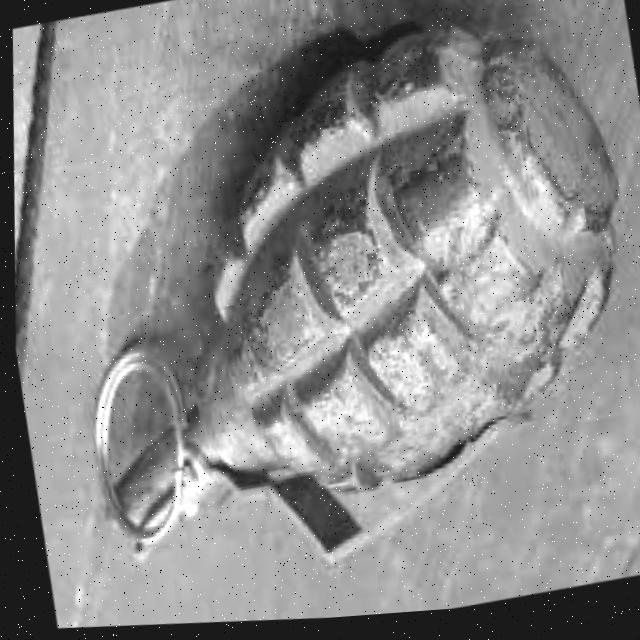grenade: (15, 0, 640, 635)
